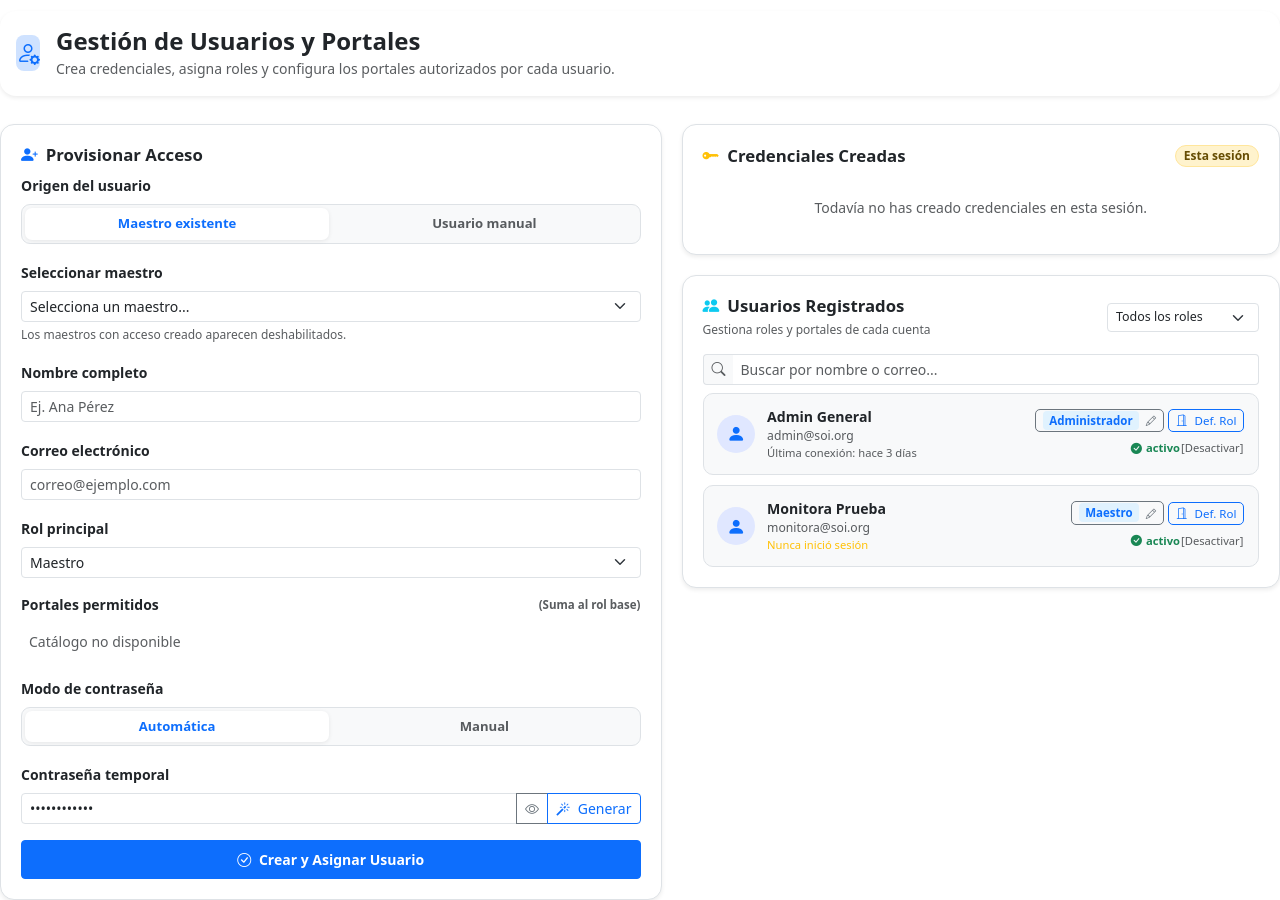
Test: gestionUsuariosView › modal Gestionar Usuario › muestra la última conexión en la lista y en el modal
Click the button "Maestro". click: (1118, 513)
box: [1071, 501, 1164, 525]
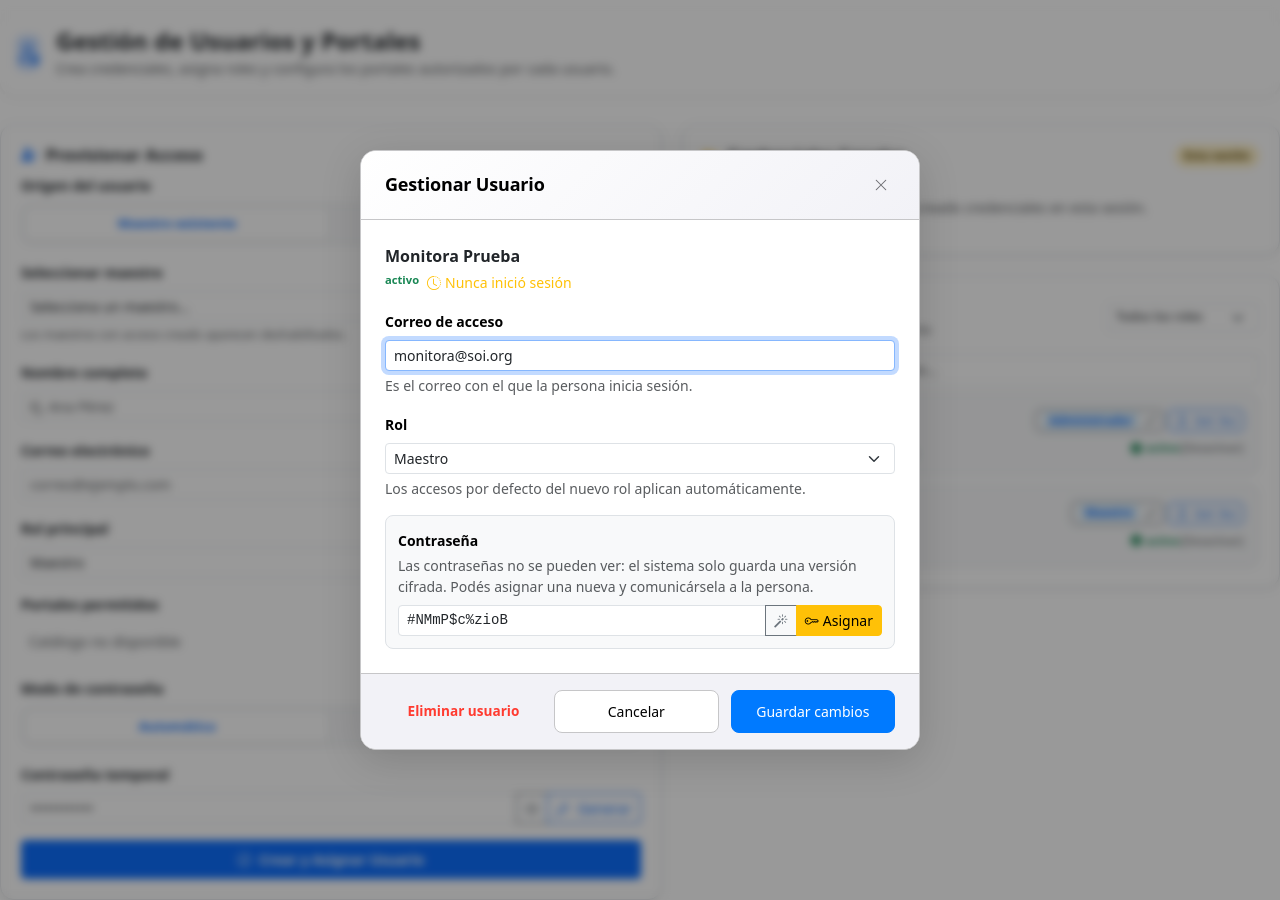
Expected: the element with id "gu-usuarios-list" shows "Última conexión: hace 3 días", [767, 445, 917, 460]
Now the element with class "app-modal-body" shows "Nunca inició sesión", box [445, 273, 572, 292]
